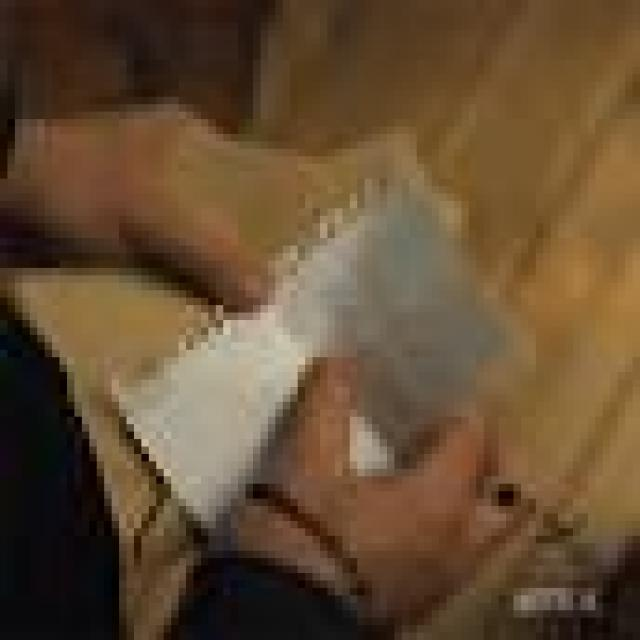Paper -Biodegradable-: (0, 118, 510, 640)
